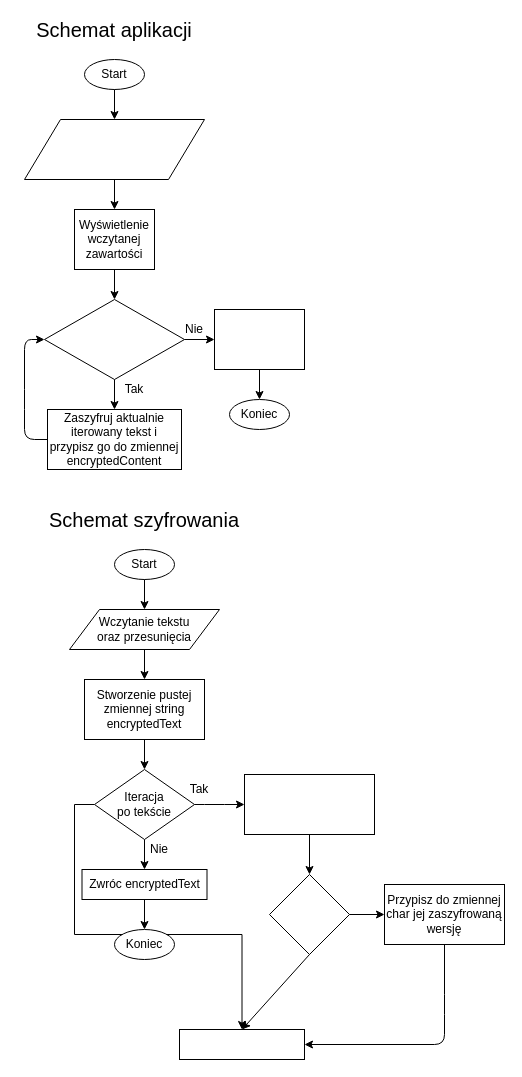
Some shapes in this 522 by 1077 pixel diagram are drawn without their labels. The centre of each missing label's shape, as x and y in pixels:
Czy char to litera?: [309,914]
encryptedText += char: [241,1044]
index in range(len(content)) ?: [114,339]
Na podstawie indeksu pętli pobierz aktualny znak z tekstu char = text[i]: [309,804]
Wczytanie zawartości pliku i przypisanie go do zmiennej: [114,149]
Wyświetlenie zaszyfrowanej zawartości: [259,339]
